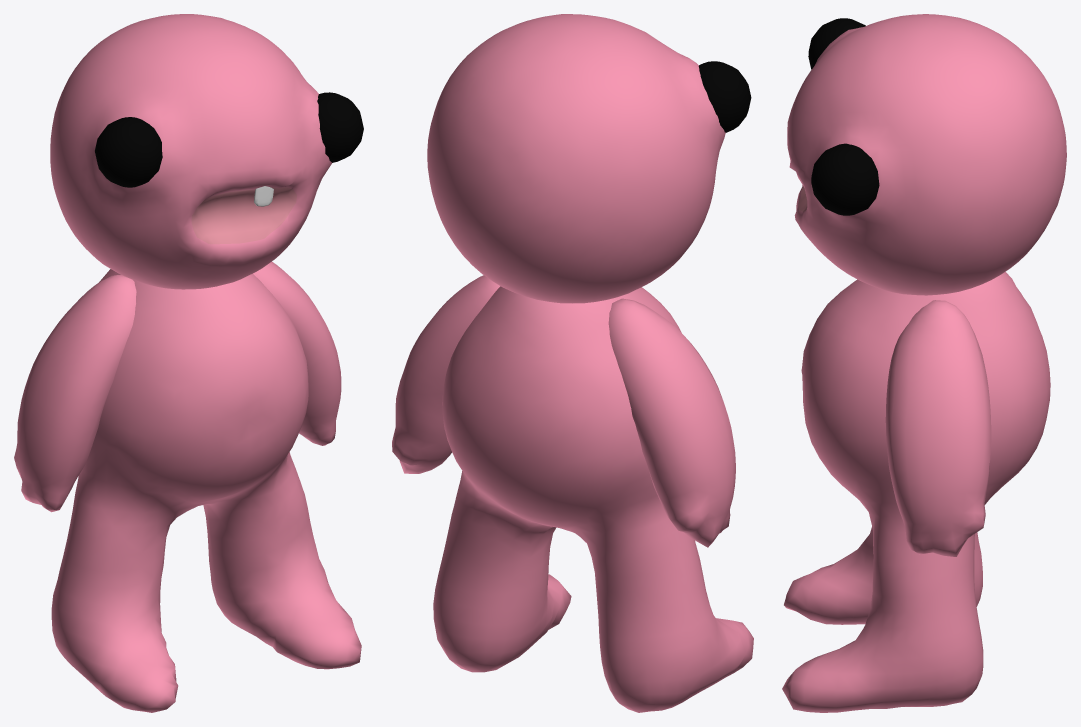
Rendered from Bob.glb.
The picture shows the model from 3 angles, left to right: view 1: azimuth 30°, elevation 25°; view 2: azimuth 150°, elevation 25°; view 3: azimuth 270°, elevation 25°; orthographic projection. The views are drawn at different scales.
Parts seen in each view (by area): view 1: Body_Cube.002, Head_Cube, Arms_Cube.003, Eyes_Sphere; view 2: Body_Cube.002, Head_Cube, Arms_Cube.003, Eyes_Sphere; view 3: Head_Cube, Body_Cube.002, Arms_Cube.003, Eyes_Sphere.
Boxes of the visible parts, x1,y1,x2,y2 form: Body_Cube.002: (51,269,361,712); Head_Cube: (50,14,331,289); Arms_Cube.003: (14,261,341,512); Eyes_Sphere: (95,92,363,187); Body_Cube.002: (433,286,753,712); Head_Cube: (427,14,725,303); Arms_Cube.003: (392,275,735,547); Eyes_Sphere: (698,61,751,132); Head_Cube: (787,14,1066,295); Body_Cube.002: (782,272,1050,712); Arms_Cube.003: (885,300,991,556); Eyes_Sphere: (808,18,879,215).
Bounding box in the file's own units: 0.7868 × 1.52 × 0.6182.
